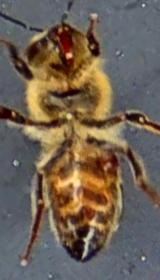varroa_mite: (86, 140, 128, 179)
